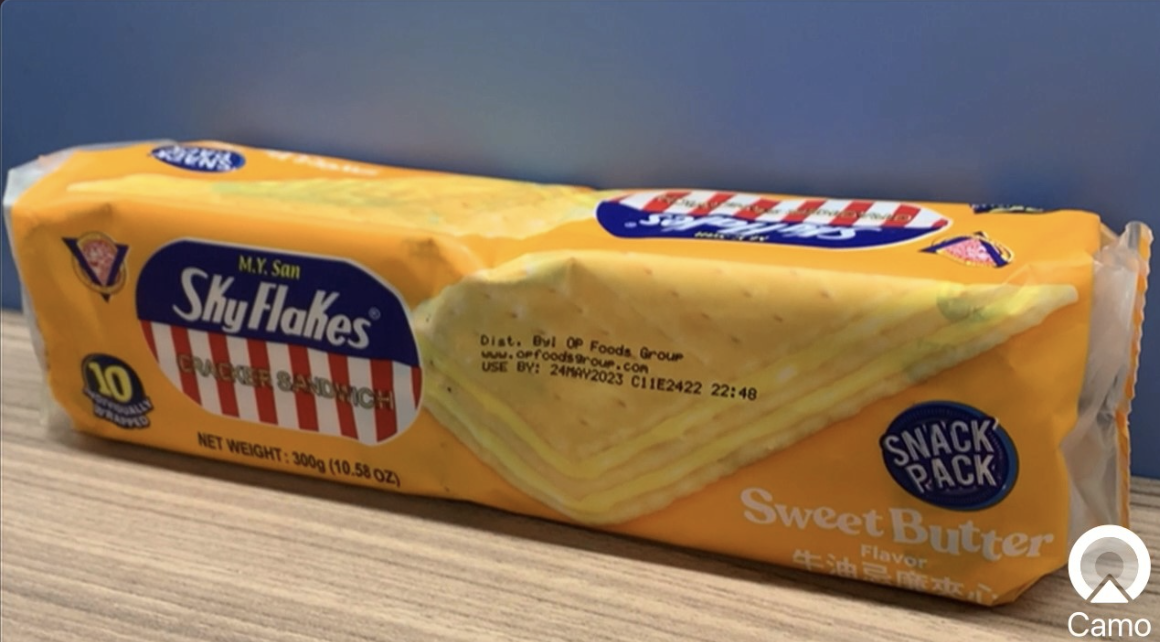crackers_300g-399g: (63, 148, 1051, 535)
